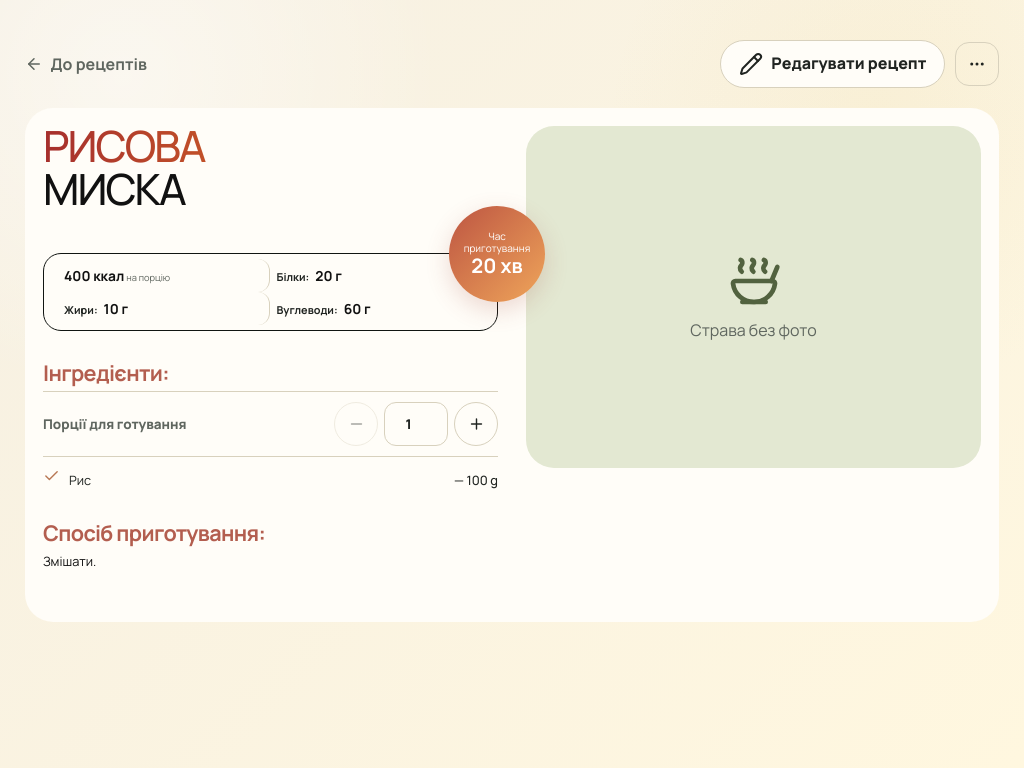
Test case: RecipeDetailPage › offers one full-page editor for the complete recipe
The image size is (1024, 768).
Expected: the text with class "recipe-title-accent" reads "Рисова", x1=43 y1=116 x2=205 y2=175
Expected: the text with class "recipe-title-rest" reads "миска", x1=43 y1=159 x2=185 y2=218
Click the button "Редагувати рецепт". click: [833, 64]
box: x1=720 y1=40 x2=946 y2=88
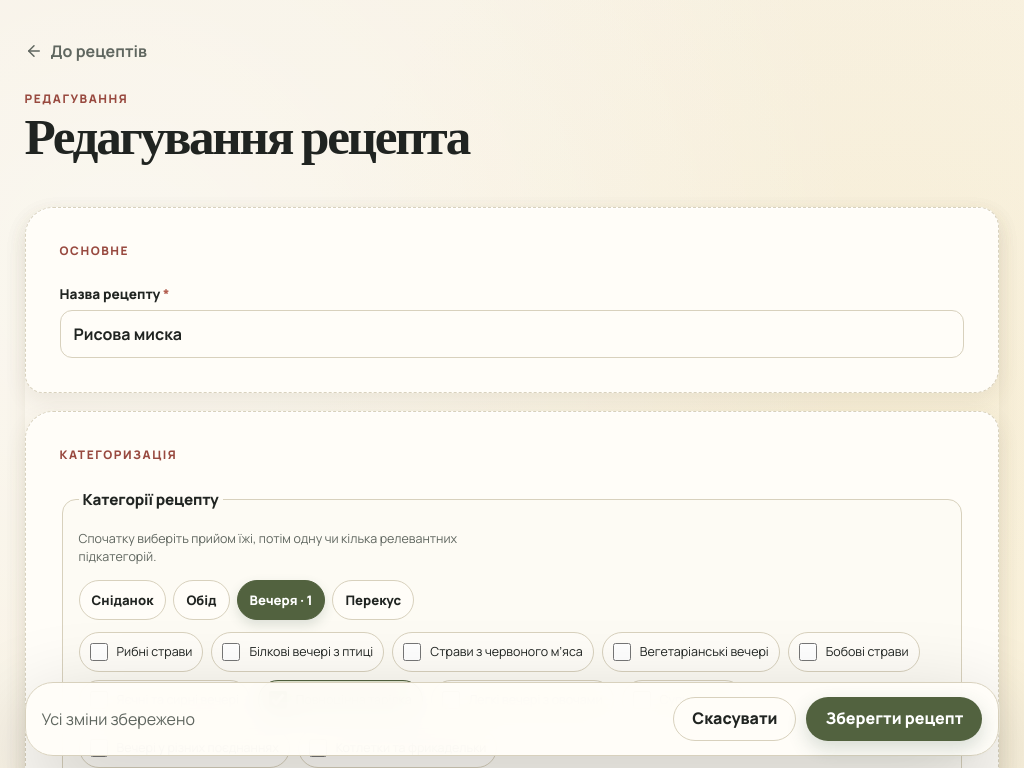
Now the heading "Редагування рецепта" is shown, box x1=25 y1=117 x2=469 y2=167
Now the field labelled "Назва рецепту" holds "Рисова миска"
Now the button "Зберегти рецепт" is shown, box x1=806 y1=697 x2=982 y2=741
Replace the text in the field labelled "Назва рецепту" with "Нова миска". click: [512, 334]
box: x1=60 y1=310 x2=964 y2=358
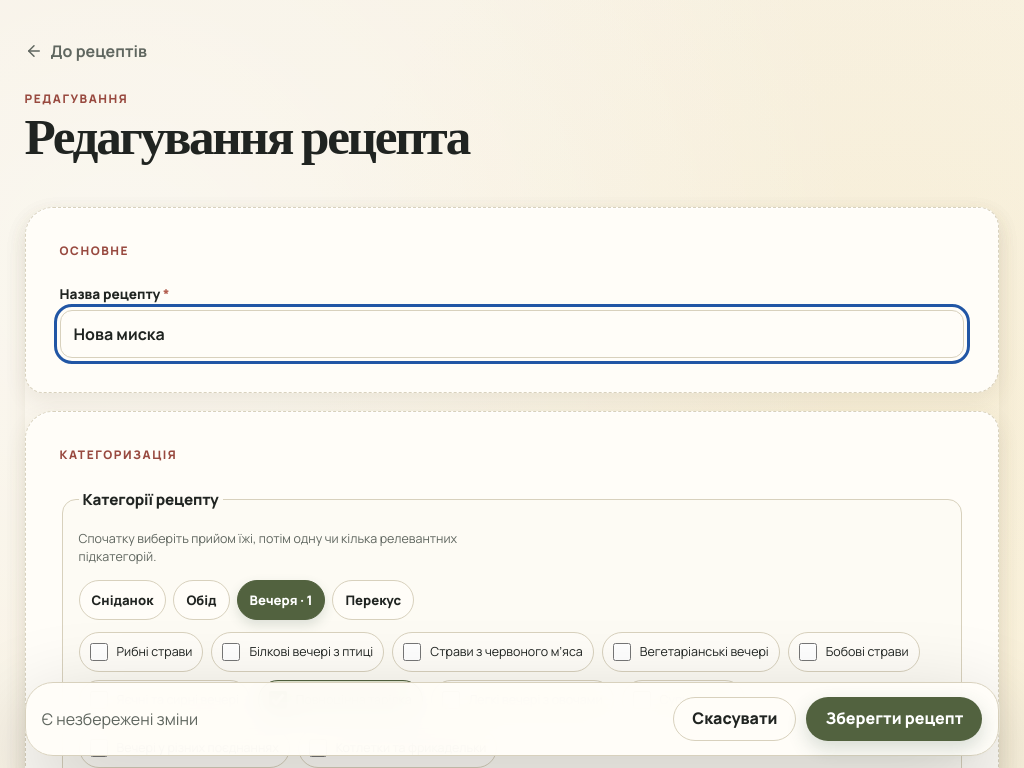
Click the button "Зберегти рецепт". click: [894, 719]
box: x1=806 y1=697 x2=982 y2=741
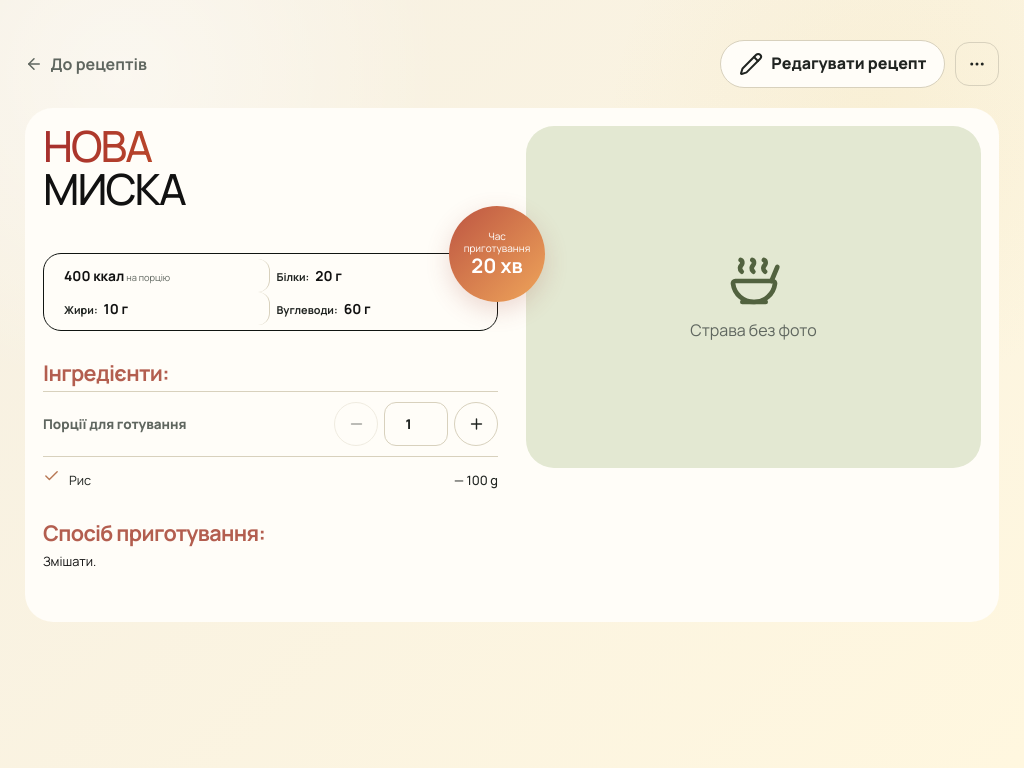
Now the heading "Нова миска" is shown, box x1=43 y1=126 x2=414 y2=218
